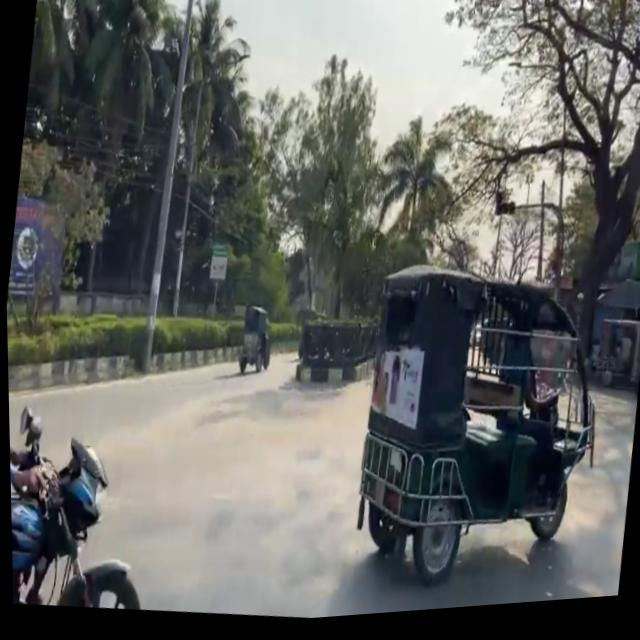Construction-barrier: (6, 305, 298, 432), (6, 339, 131, 407)
Fallen-tree: (7, 393, 161, 618)
Light-pole: (131, 0, 202, 377)
Traffic-cone: (341, 254, 618, 616), (233, 305, 274, 380)
